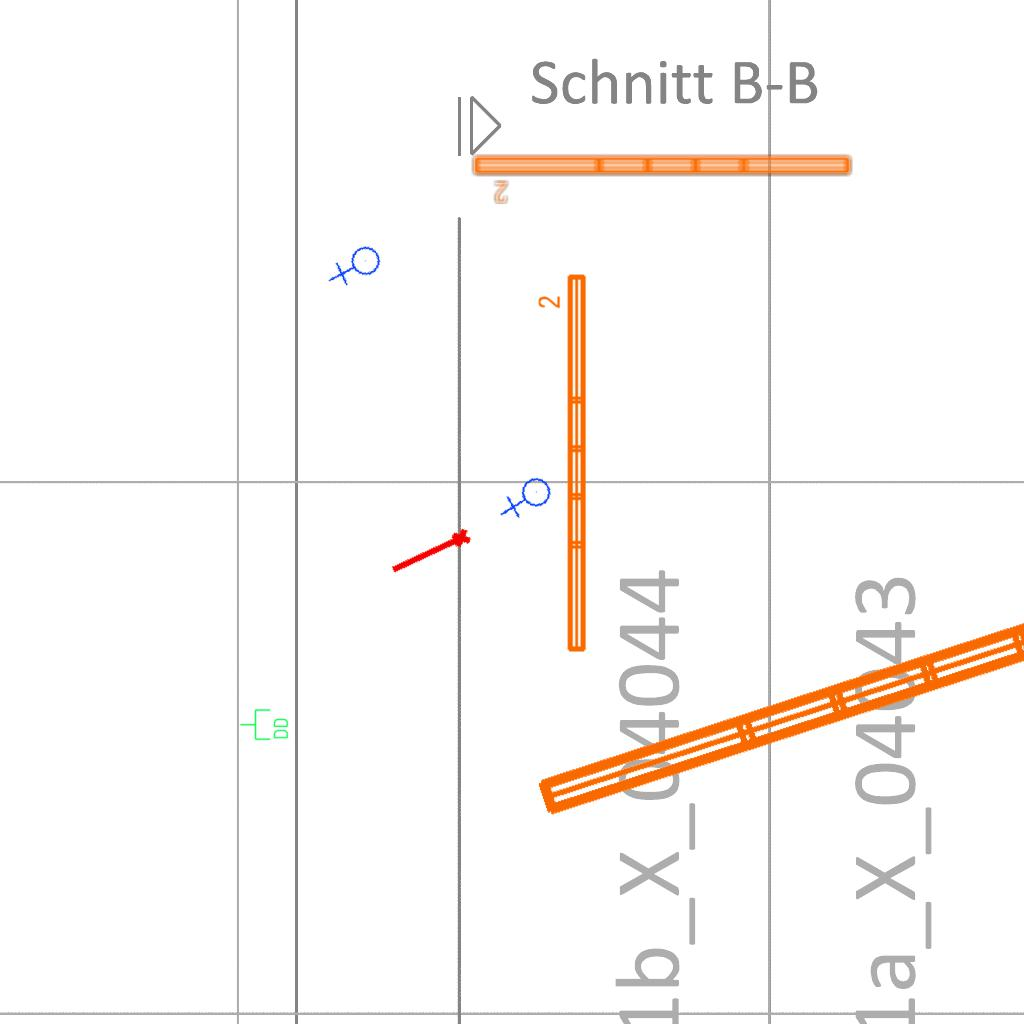ASR_Ansaugoeffnung: (386, 524, 476, 583)
Ambulanz_Pendelleuchte_LED: (507, 485, 1024, 831), (536, 270, 592, 657), (469, 150, 856, 206)
Datenanschluss_zweifach: (239, 708, 290, 742)
Elektroanschluss_allgemein_230V_Geraeteanschlussdose_230V: (327, 238, 388, 297), (499, 471, 558, 528)
